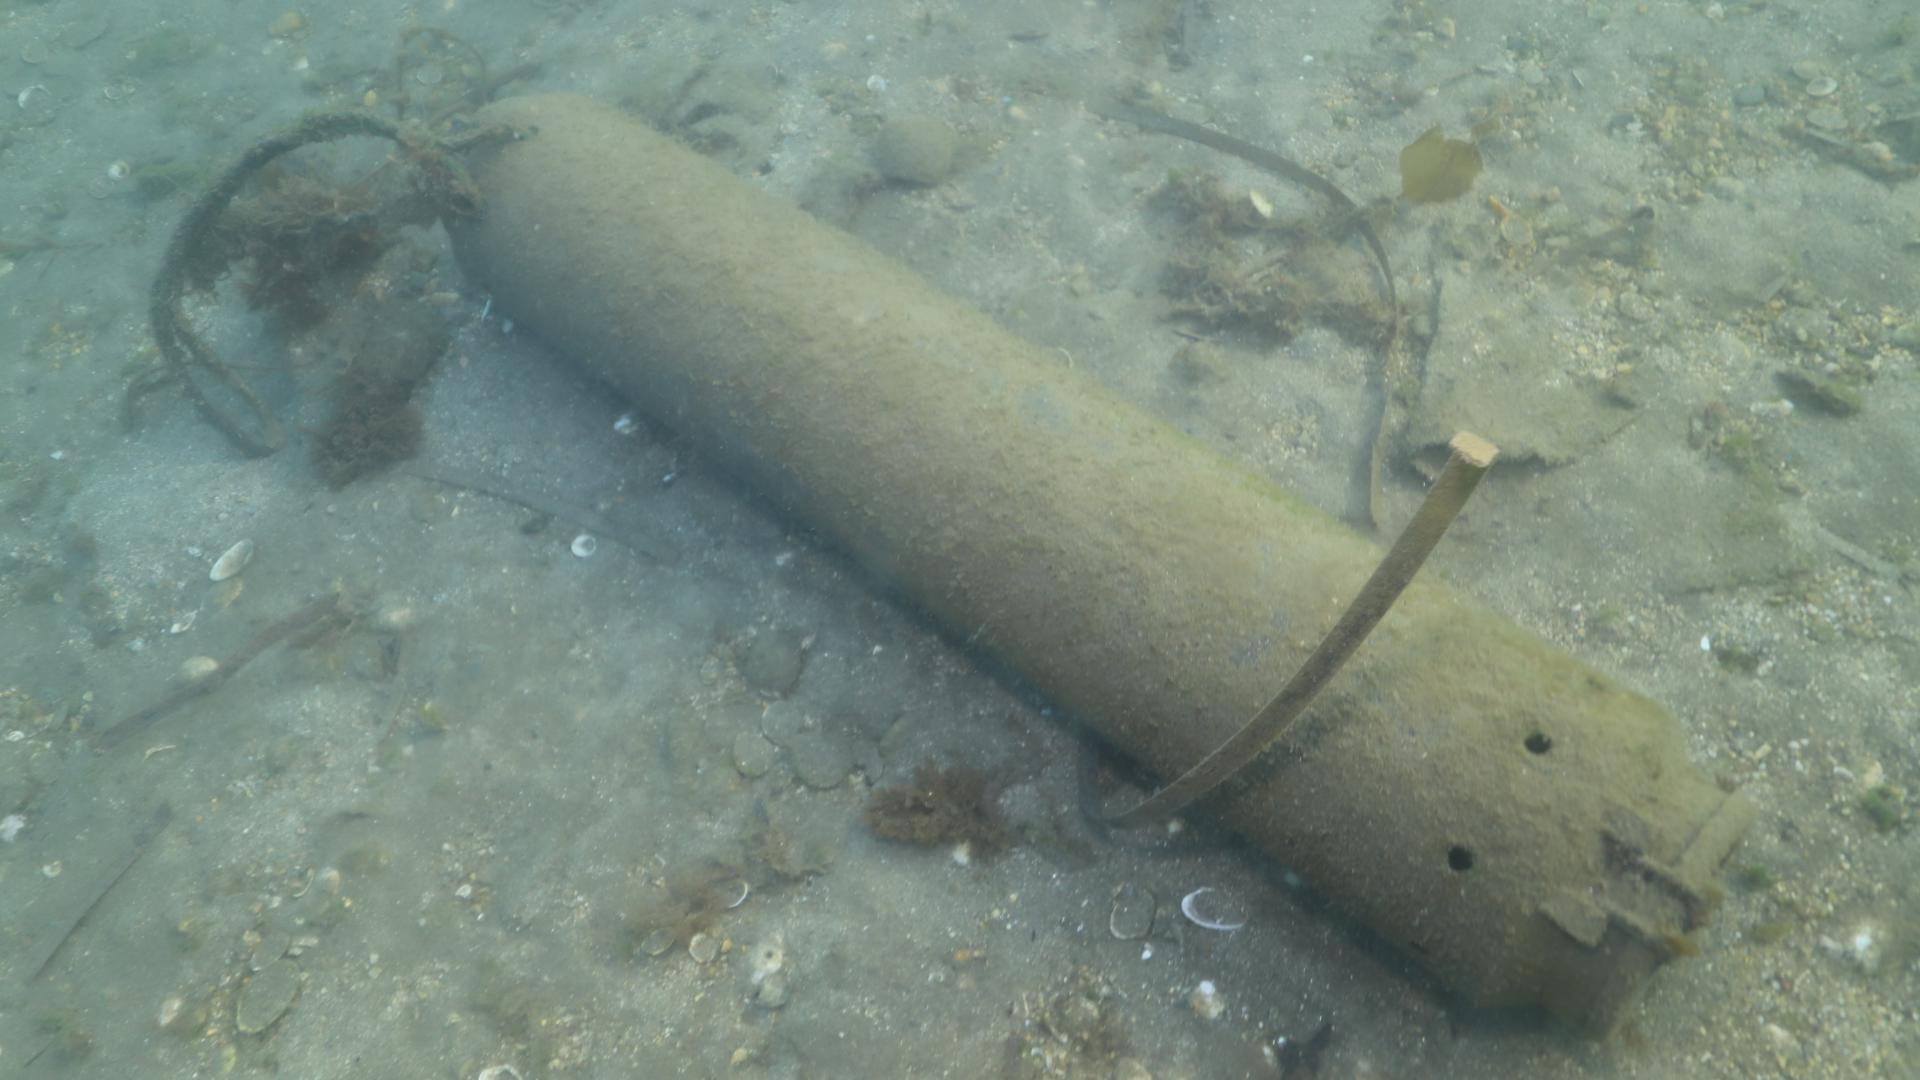bundle of ropes: (148, 109, 531, 459)
eel fish trap: (444, 90, 1754, 1044)
